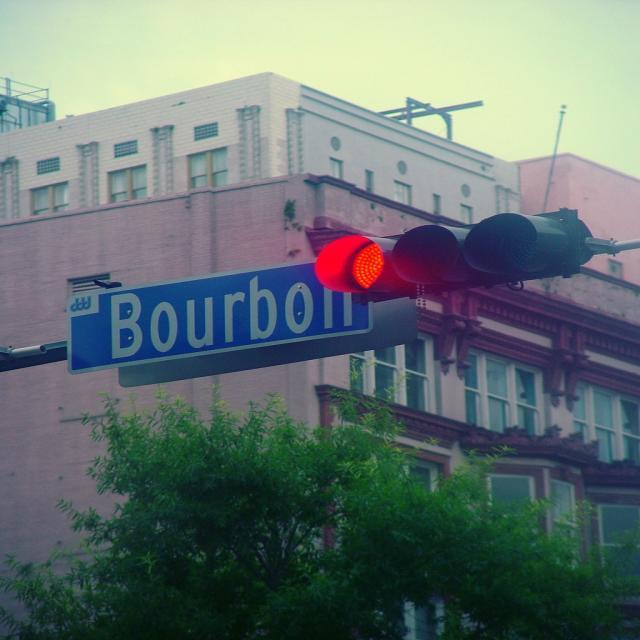traffic light: (311, 224, 590, 294)
